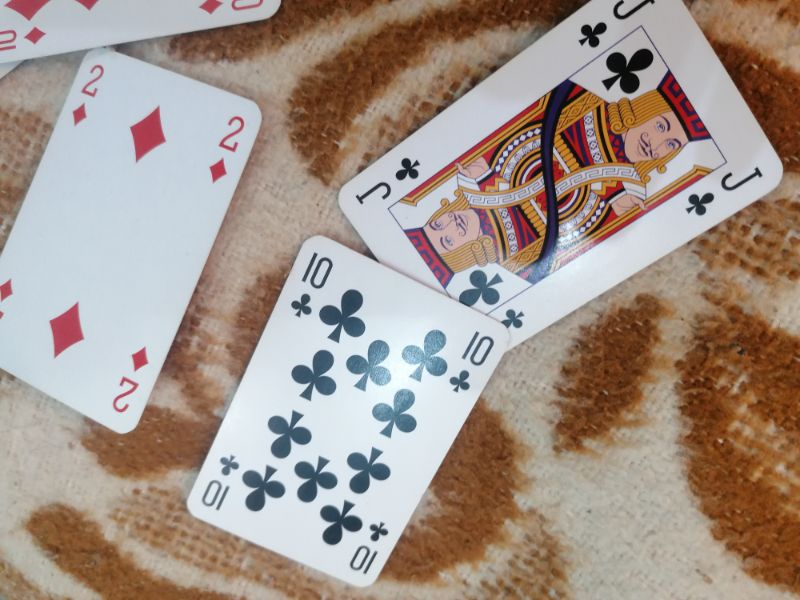2d: (108, 343, 156, 414), (206, 113, 249, 185), (68, 61, 111, 127)
Jc: (680, 163, 767, 219), (354, 153, 423, 207)
Tc: (286, 250, 338, 326), (447, 330, 501, 395), (198, 451, 242, 511), (346, 520, 393, 576)
